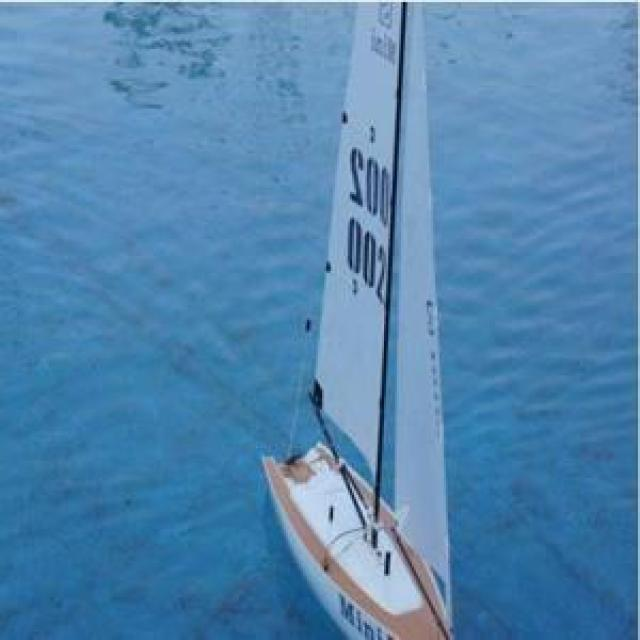sailboat: (254, 3, 478, 640)
